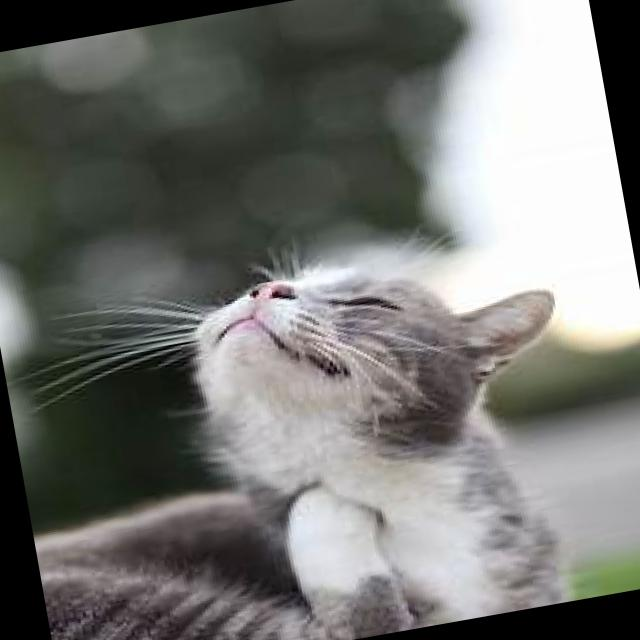animal: (0, 197, 605, 640)
